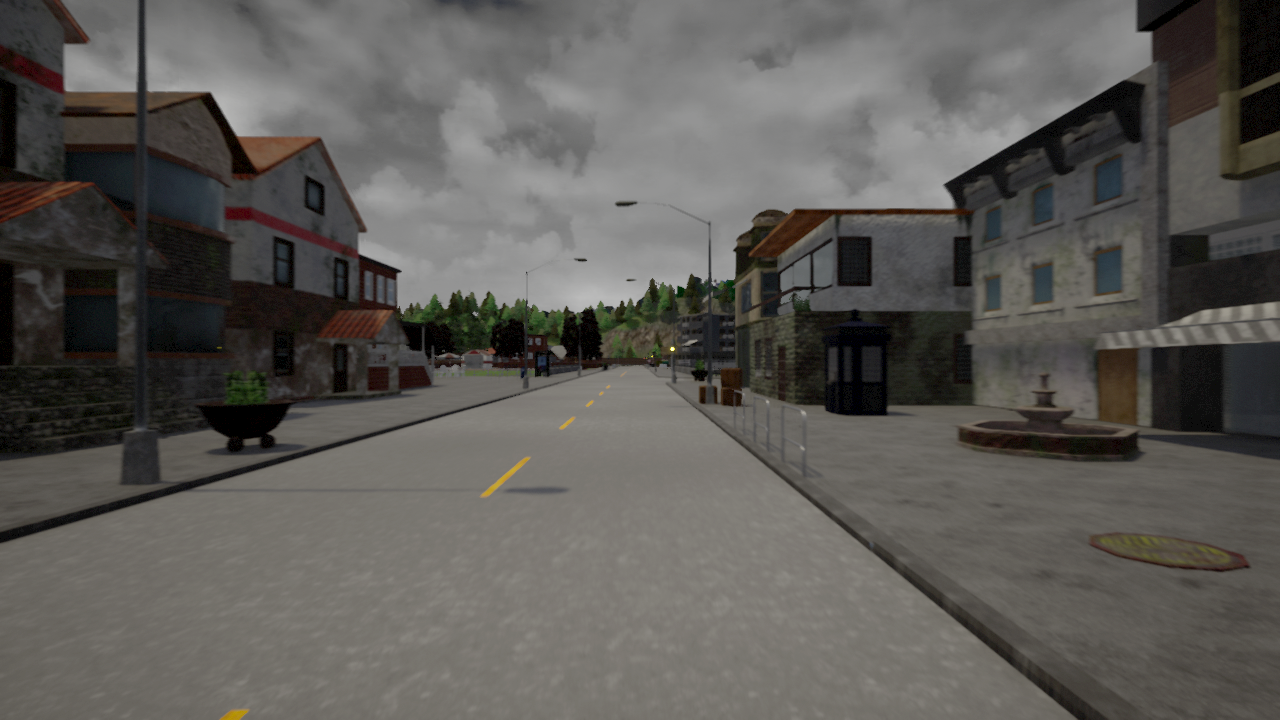yellow: (669, 341, 676, 356)
